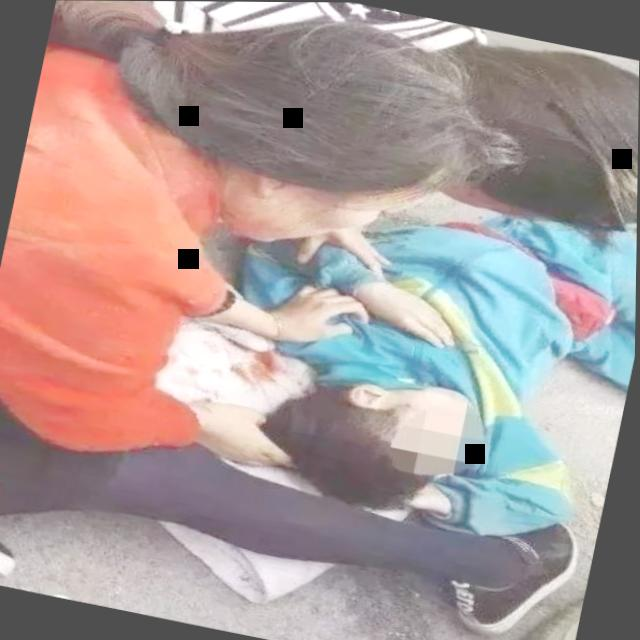Fall-Detected: (209, 120, 639, 591)
